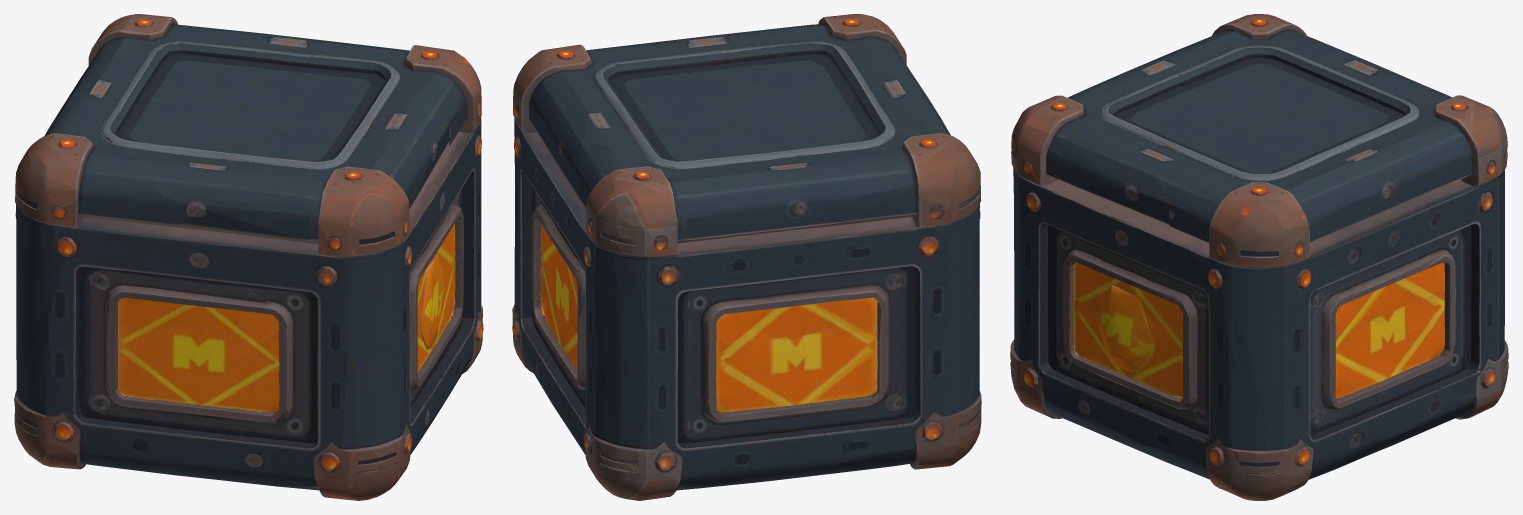
File: itemCrate.136eff30.glb
3 renders of one model, left to right at view 1: azimuth 30°, elevation 25°; view 2: azimuth 150°, elevation 25°; view 3: azimuth 270°, elevation 25°, orthographic. The views are drawn at different scales.
Visible parts, largest first — view 1: output_unwrapped; view 2: output_unwrapped; view 3: output_unwrapped.
Part boxes in pixels (x1,y1,x2,y2): output_unwrapped: [14, 14, 483, 500]; output_unwrapped: [512, 14, 981, 500]; output_unwrapped: [1010, 14, 1508, 500].
Size of the model in its own units: 1.9 by 1.28 by 1.9.
Materials: 1 (1 with a texture image).
